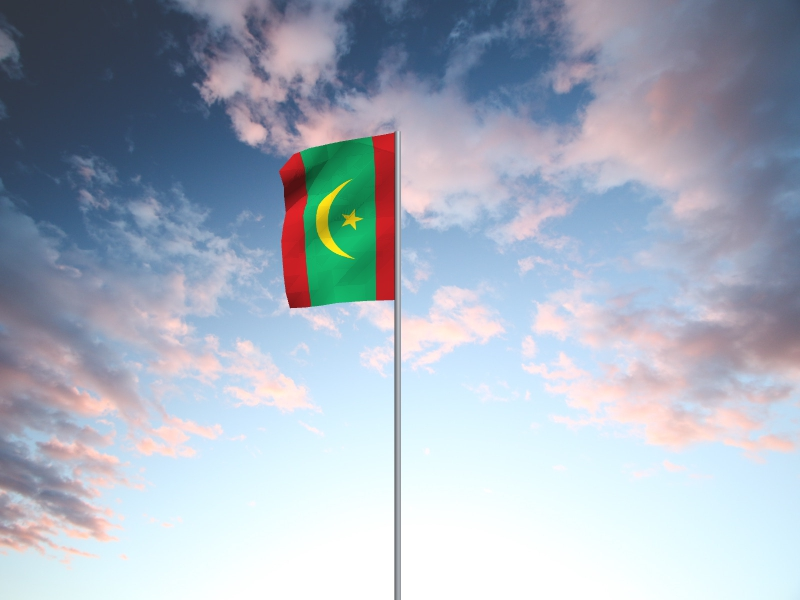mr: (278, 134, 395, 311)
